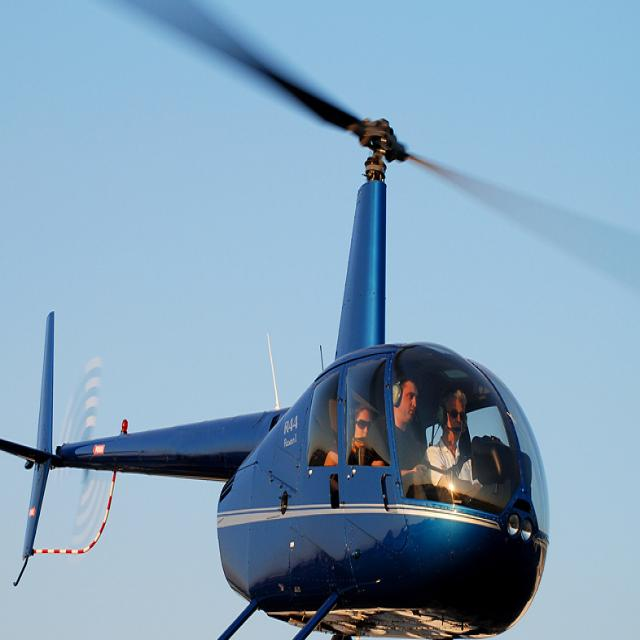helicopter: (1, 1, 577, 640)
